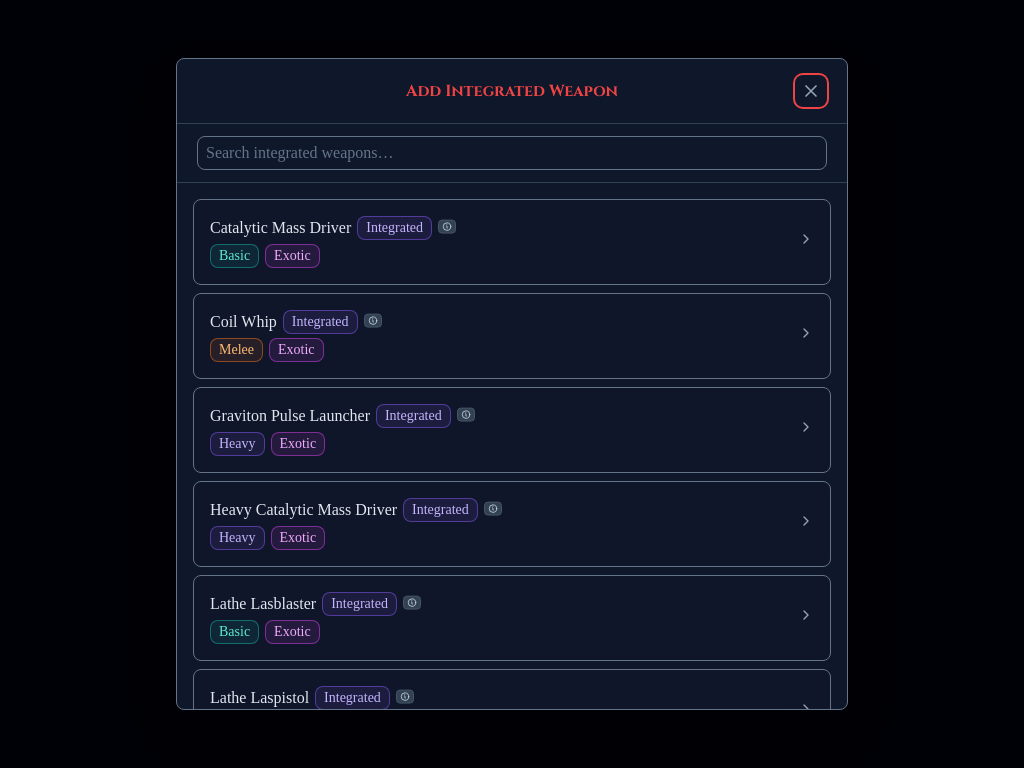
Scenario: IntegratedWeaponPicker craftsmanship description › updates the description when a different craftsmanship level is picked
The image size is (1024, 768).
Click the button named "Select Coil Whip": (512, 336) [194,294,830,378]
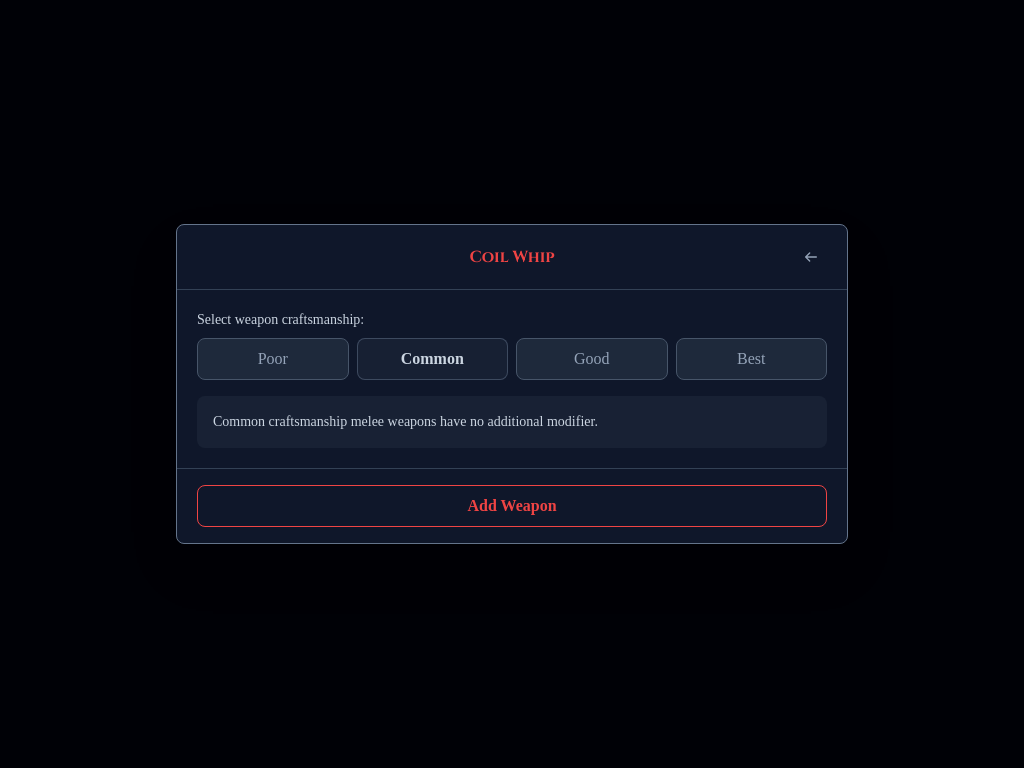
Click the button "Best": (751, 359) [676,338,827,380]
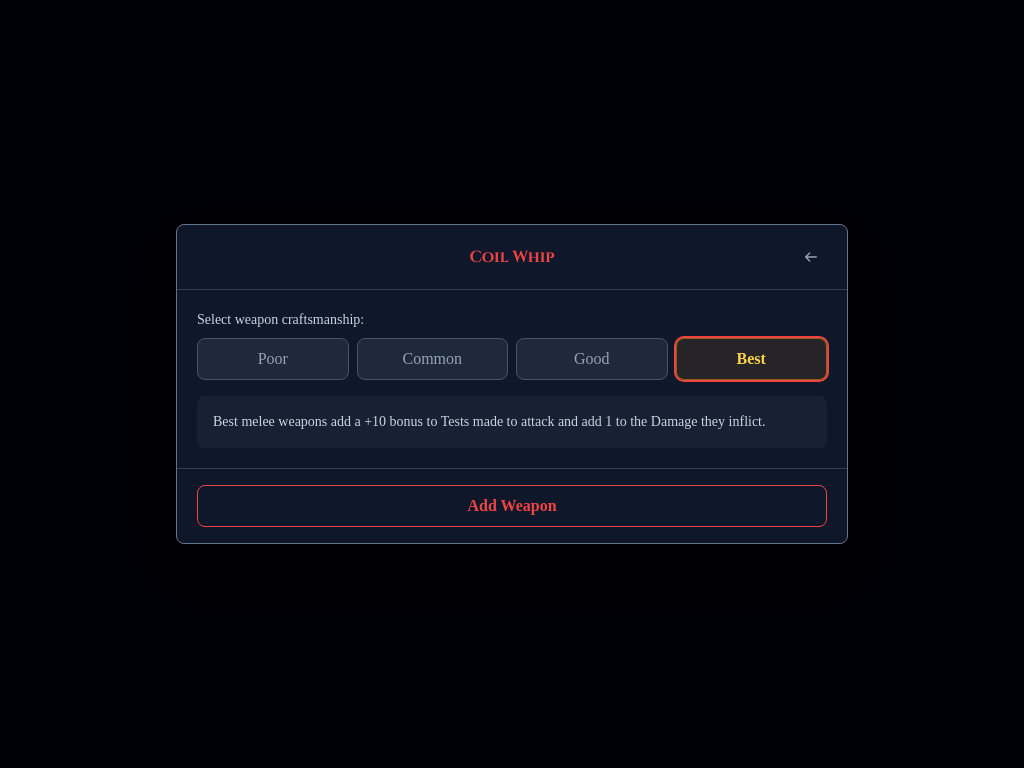
expect the text "add a +10 bonus to Tests made to attack and add 1 to the Damage" is shown: met, box [213,414,766,429]
